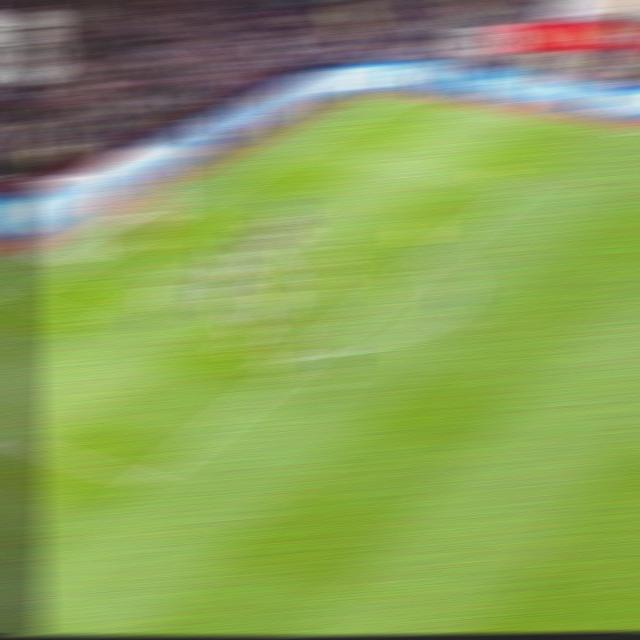bigarea_bottom_inner: (122, 462, 168, 496)
bigarea_top_inner: (502, 176, 542, 200)
bigarea_top_outter: (287, 136, 323, 155)
bottom_arc_area_intersection: (286, 344, 324, 367)
corner: (378, 90, 418, 105)
smallarea_bottom_inner: (78, 306, 122, 335)
smallarea_bottom_outter: (1, 287, 36, 309)
smallarea_top_outter: (198, 183, 237, 204)
top_arc_area_intersection: (417, 242, 456, 265)
